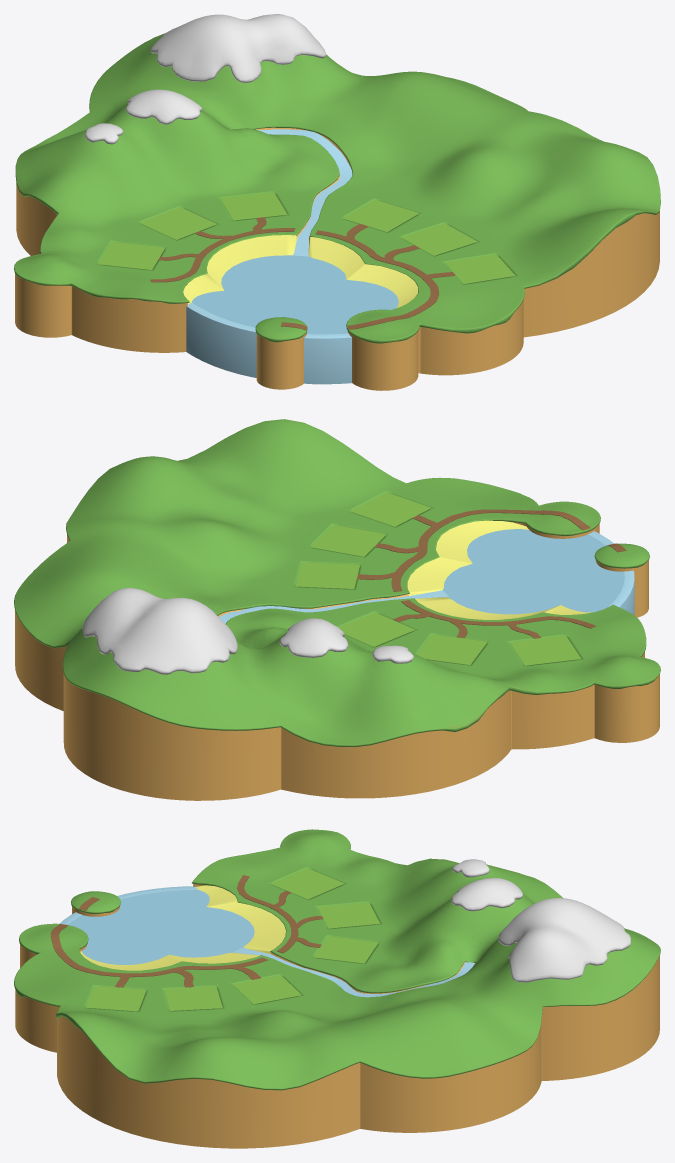
The model's file is mapV4.fbx.
3 renders of one model, top to bottom at view 1: azimuth 30°, elevation 25°; view 2: azimuth 150°, elevation 25°; view 3: azimuth 270°, elevation 25°, orthographic. The views are drawn at different scales.
Parts seen in each view (by area): view 1: herbe, terrain, neige, water, plots, waterMov, Plane.001; view 2: herbe, terrain, neige, water, plots, Plane.001, waterMov; view 3: herbe, terrain, neige, water, plots, Plane.001, waterMov.
Boxes of the visible parts, x1=… form: herbe: x1=14, y1=33, x2=660, y2=343; terrain: x1=15, y1=127, x2=659, y2=390; neige: x1=85, y1=14, x2=326, y2=144; water: x1=191, y1=255, x2=398, y2=334; plots: x1=98, y1=192, x2=515, y2=283; waterMov: x1=186, y1=129, x2=352, y2=384; Plane.001: x1=150, y1=217, x2=455, y2=330; herbe: x1=14, y1=419, x2=660, y2=747; terrain: x1=15, y1=520, x2=659, y2=800; neige: x1=82, y1=588, x2=413, y2=674; water: x1=443, y1=529, x2=624, y2=614; plots: x1=296, y1=492, x2=581, y2=665; Plane.001: x1=357, y1=509, x2=626, y2=638; waterMov: x1=219, y1=531, x2=634, y2=623; herbe: x1=14, y1=829, x2=660, y2=1090; terrain: x1=15, y1=864, x2=659, y2=1148; neige: x1=451, y1=859, x2=630, y2=982; water: x1=68, y1=889, x2=254, y2=964; plots: x1=86, y1=868, x2=380, y2=1011; Plane.001: x1=50, y1=875, x2=323, y2=987; waterMov: x1=59, y1=886, x2=475, y2=997.
Bounding box in the file's own units: 23746 × 5458 × 24305.
